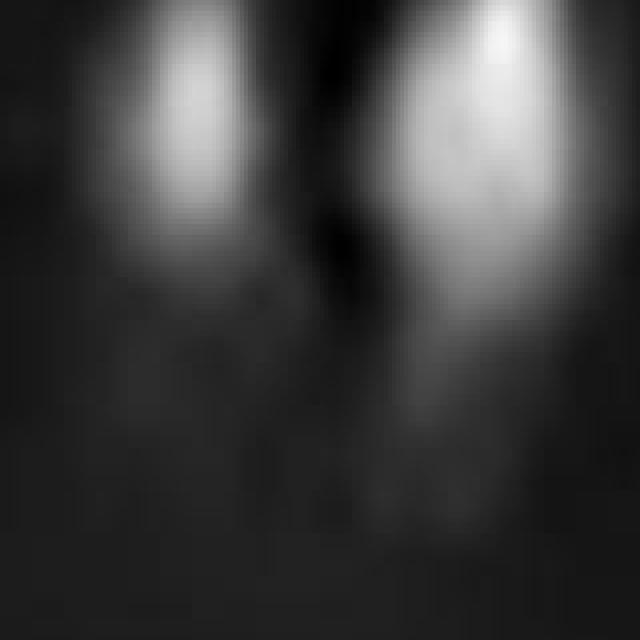person: (385, 1, 569, 545), (117, 1, 269, 348)
